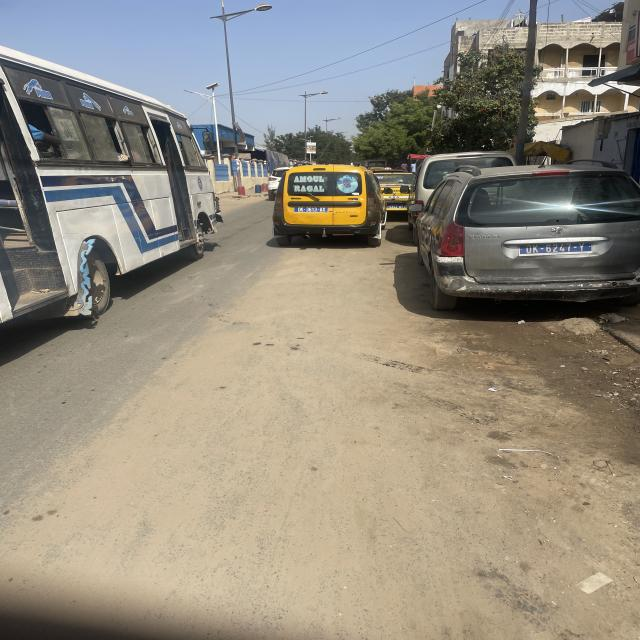bus tata: (1, 49, 223, 322)
particulier: (416, 166, 640, 311), (408, 152, 516, 206), (269, 167, 291, 201)
taxi: (273, 166, 388, 247), (374, 171, 414, 212)
